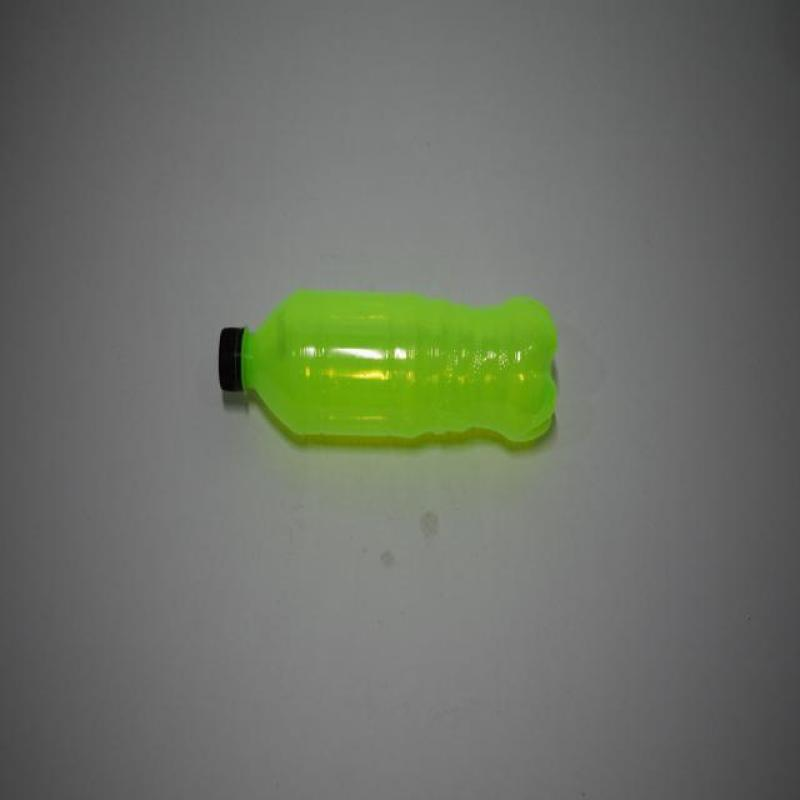botella: (214, 288, 561, 453)
